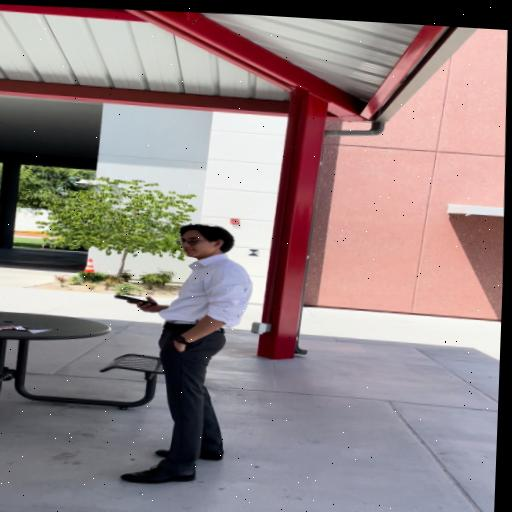target2: (246, 249, 260, 257)
